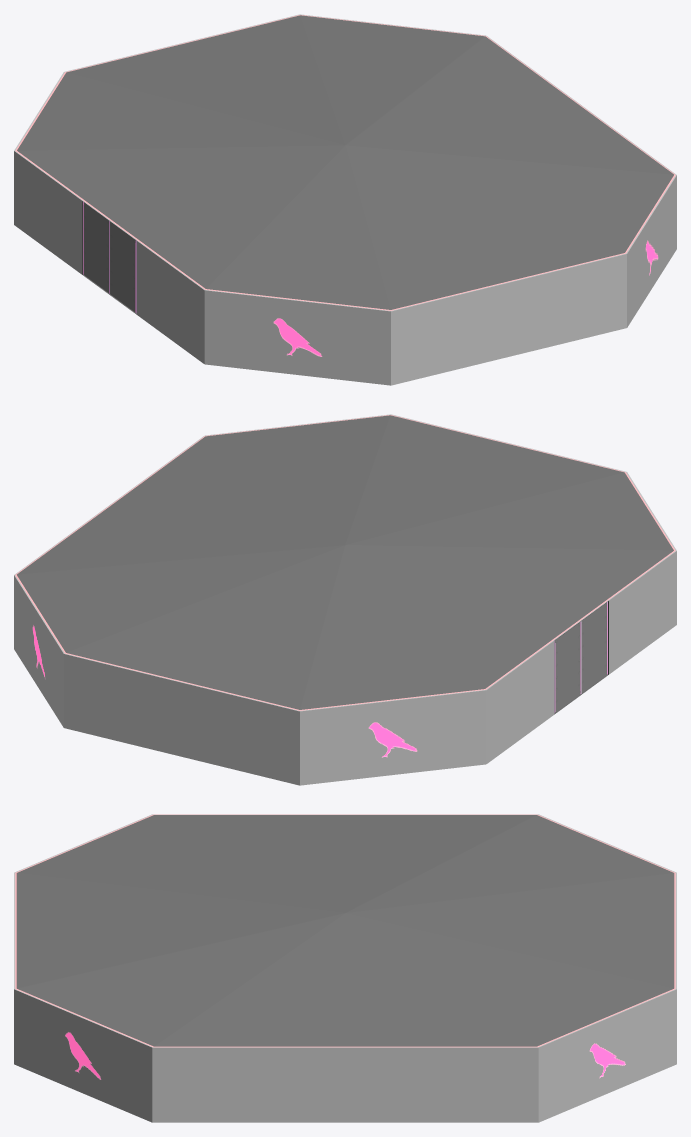
The model's file is Gallery4.gltf.
The picture shows the model from 3 angles, top to bottom: view 1: azimuth 30°, elevation 25°; view 2: azimuth 150°, elevation 25°; view 3: azimuth 270°, elevation 25°; orthographic projection.
Parts seen in each view (by area): view 1: Gallery; view 2: Gallery; view 3: Gallery.
Part boxes in pixels (x1,y1,x2,y2): Gallery: (14, 14, 676, 385); Gallery: (14, 414, 676, 785); Gallery: (14, 814, 676, 1122).
Bounding box in the file's own units: 20 × 3.72 × 24.
7 materials, 2 textured.
